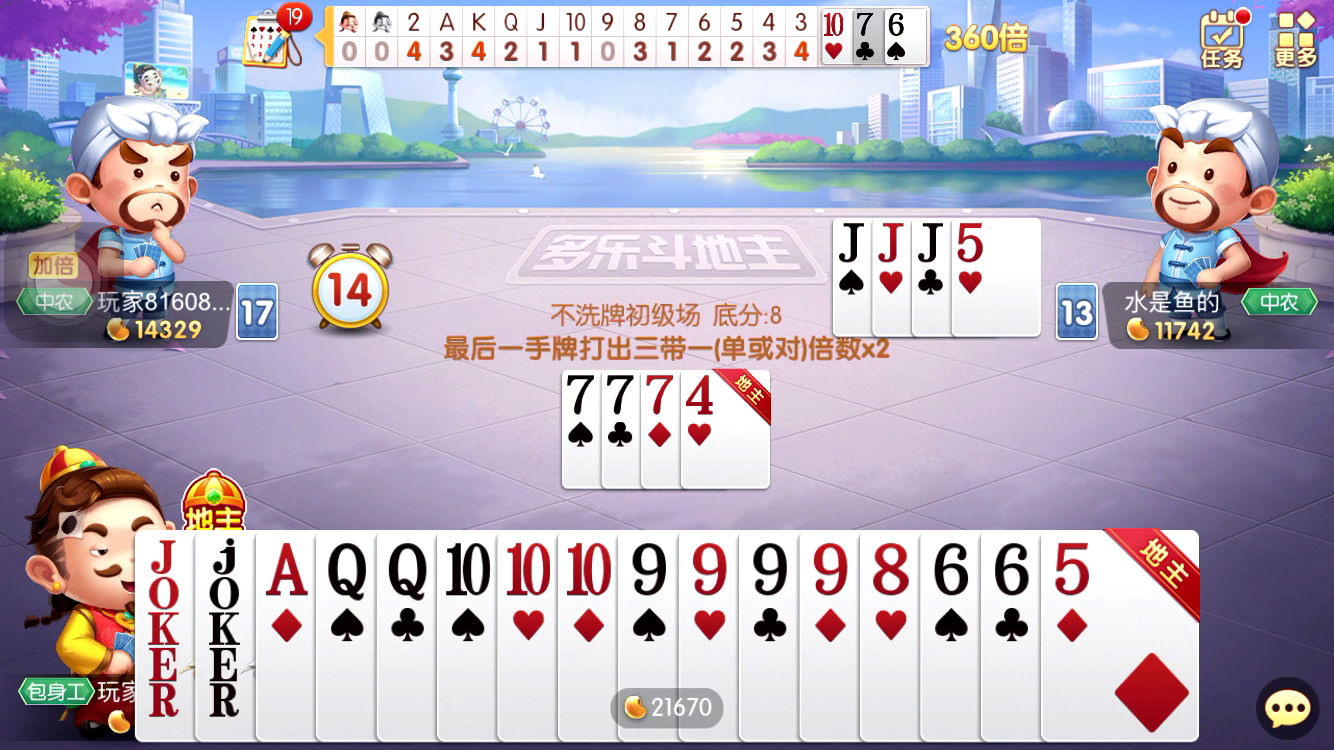A: (260, 540, 312, 606)
J: (833, 218, 868, 269), (872, 218, 907, 267), (913, 220, 947, 269)
JOKER: (135, 531, 191, 653)
Q: (321, 538, 371, 606), (383, 538, 431, 606)
eight: (866, 539, 917, 604)
five: (1047, 537, 1101, 605), (952, 218, 992, 267)
four: (682, 372, 721, 419)
joker: (201, 535, 249, 655)
nine: (742, 536, 797, 606), (622, 537, 676, 605), (804, 538, 856, 606), (683, 537, 733, 603)
seven: (561, 370, 597, 421), (603, 373, 637, 421), (643, 372, 676, 420), (853, 9, 878, 42)
six: (986, 536, 1039, 604), (926, 537, 976, 605), (885, 9, 915, 42)
ten: (500, 537, 555, 603), (440, 537, 493, 605), (562, 538, 614, 605), (820, 9, 847, 42)
